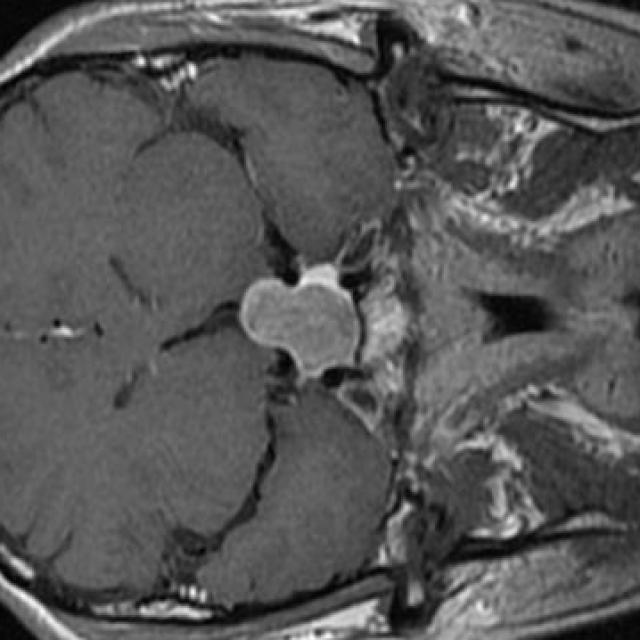pituitary: (237, 264, 360, 380)
